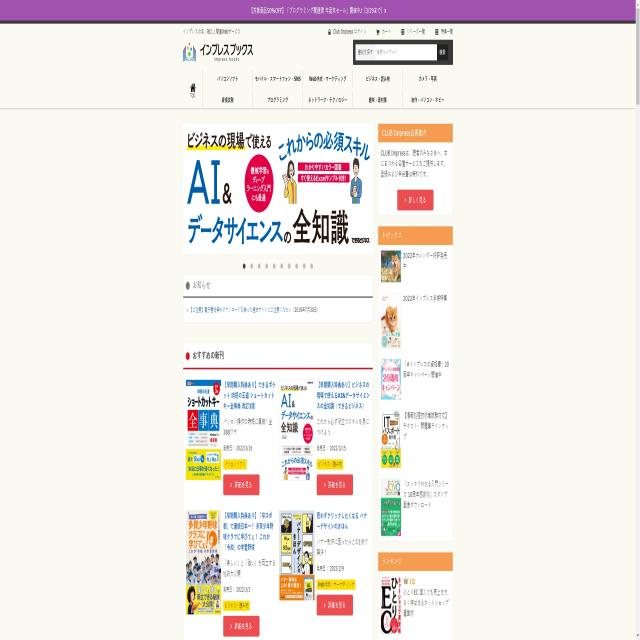side-panel: (376, 116, 460, 640)
tab-bar: (198, 70, 450, 108)
